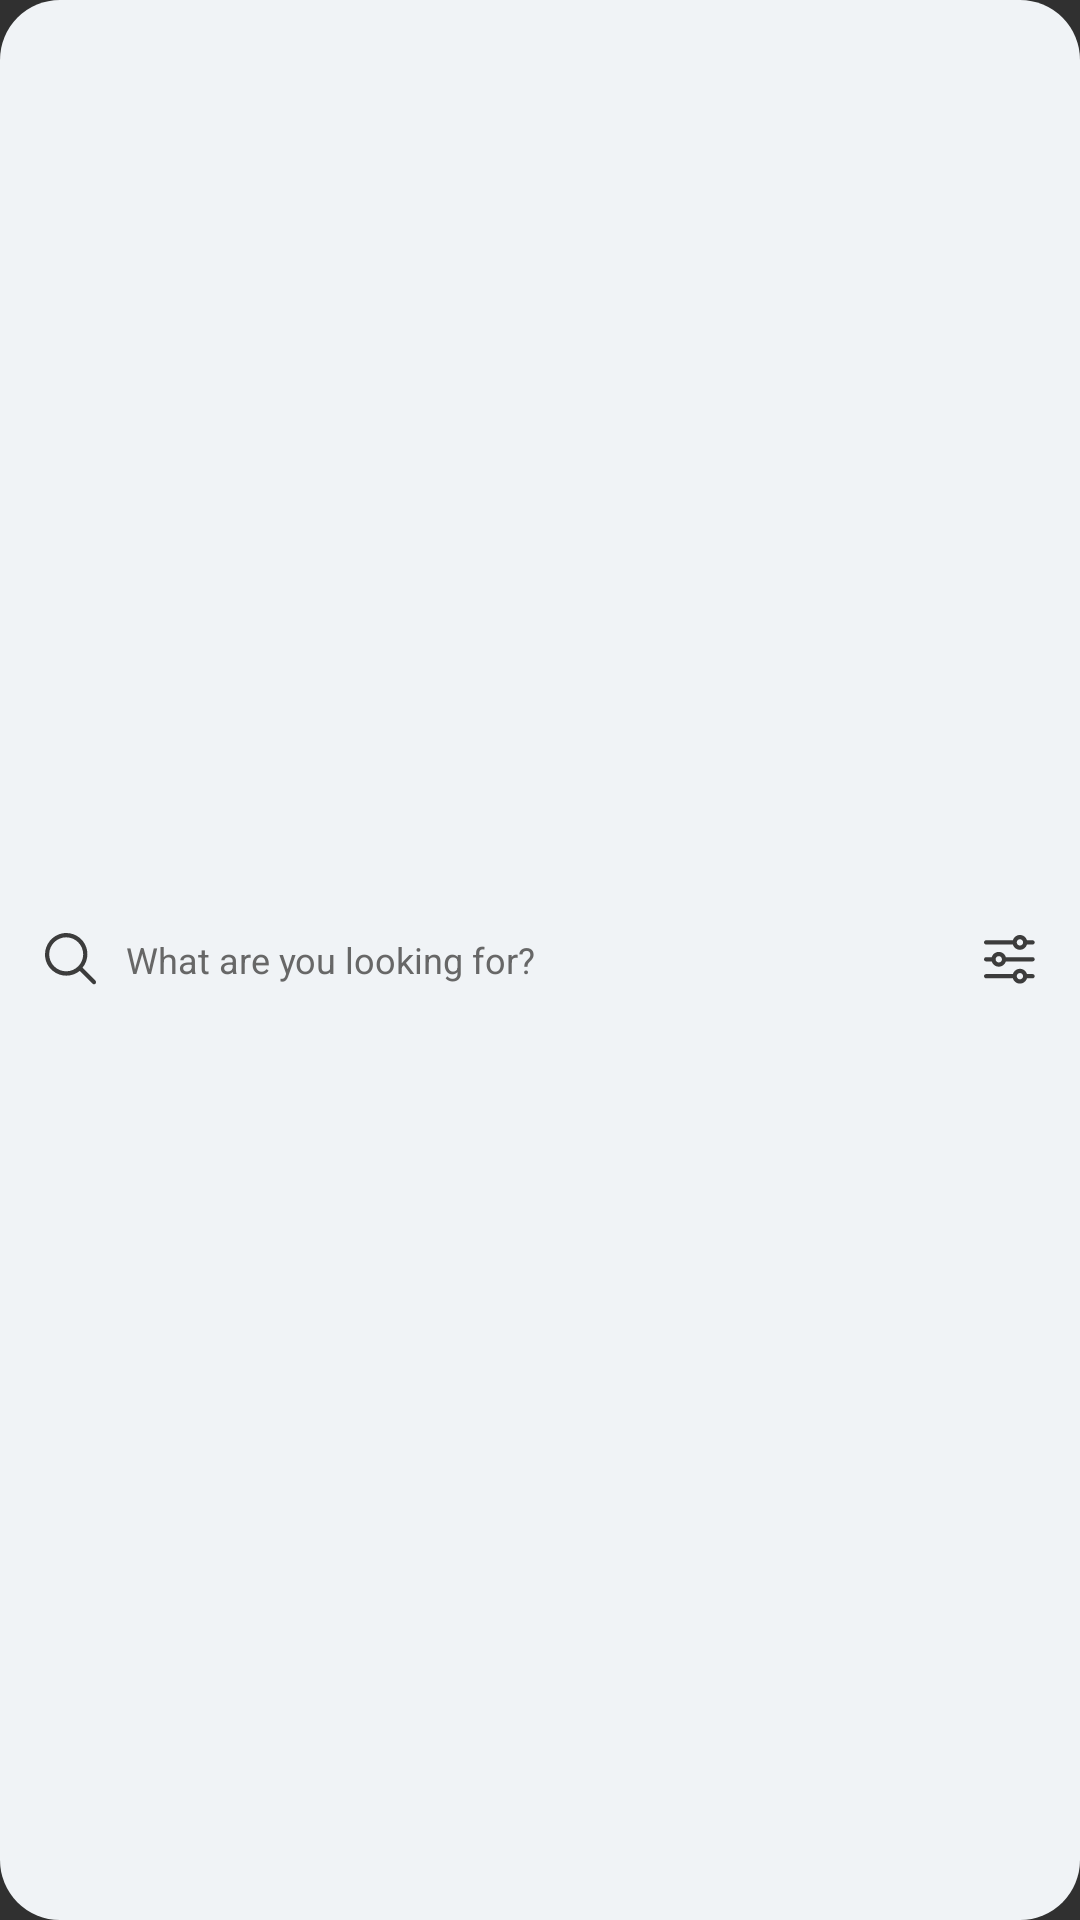

Icons on this 1080px×1920px Android screen, each with the point to tap as point (x, y):
search: point (70, 959)
search filter: point (1009, 959)
